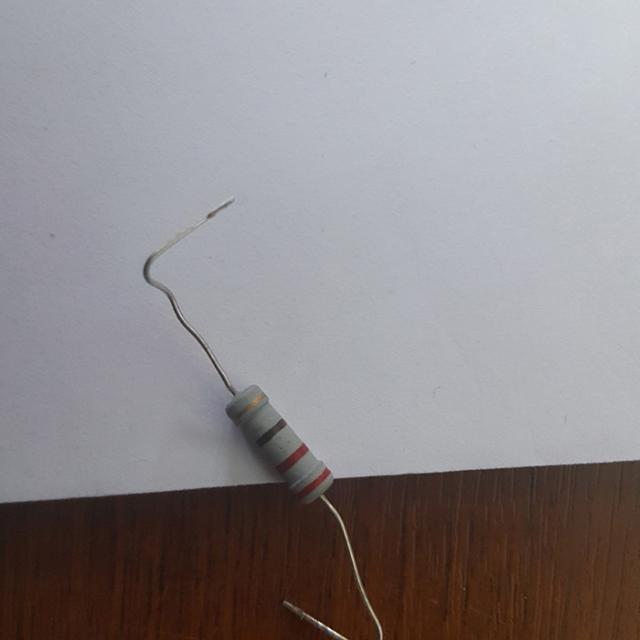brown: (254, 419, 286, 449)
gold: (232, 392, 266, 421)
red: (296, 468, 330, 497), (276, 443, 307, 473)
resistor: (211, 372, 349, 522)
